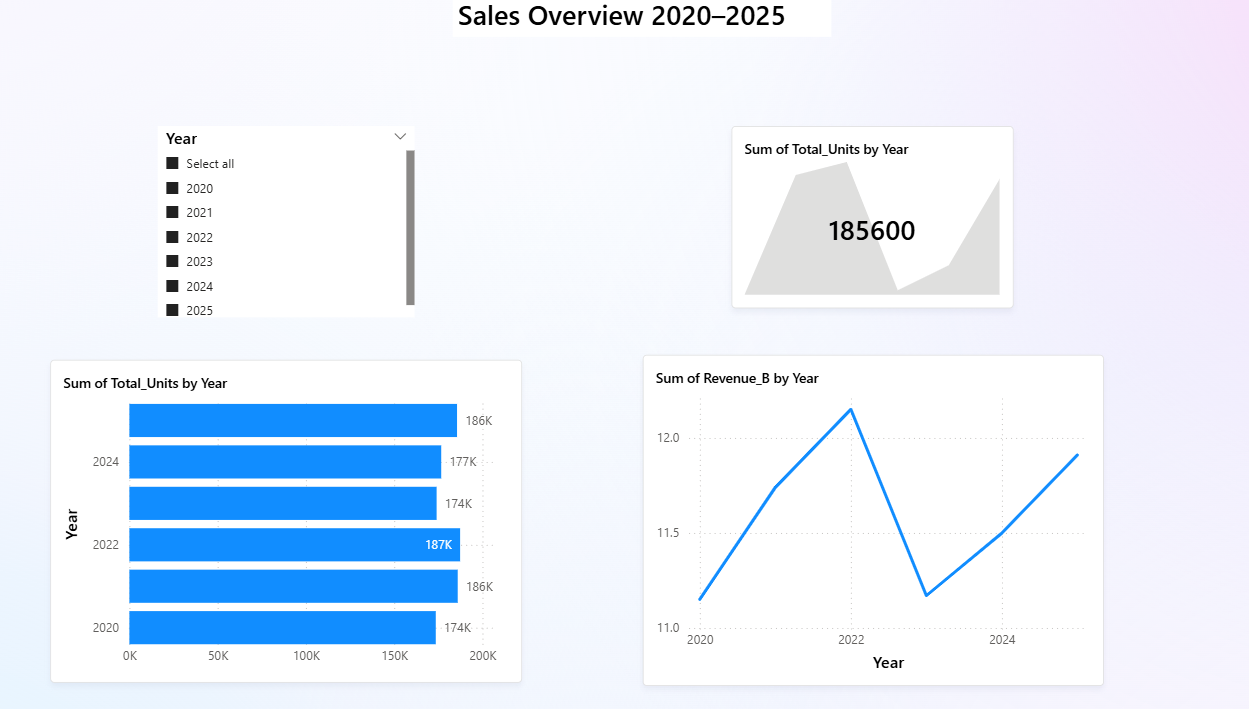

What the dashboard file says about the page in this screenshot:
{"tool":"powerbi","page":{"name":"Page 1","canvas":[1280,720],"ordinal":0},"visuals":[{"type":"slicer","fields":{"Values":["PBI_01_Annual_Summary.Year"]},"box":[190,127.1,251.4,187.1],"z":0},{"type":"barChart","fields":{"Category":["PBI_01_Annual_Summary.Year"],"Y":["Sum(PBI_01_Annual_Summary.Total_Units)"]},"box":[84.3,355.7,461.4,315.7],"z":1000},{"type":"lineChart","fields":{"Category":["PBI_01_Annual_Summary.Year"],"Y":["Sum(PBI_01_Annual_Summary.Revenue_B)"]},"box":[664.3,351.4,451.4,324.3],"z":2000},{"type":"kpi","fields":{"Indicator":["Sum(PBI_01_Annual_Summary.Total_Units)"],"TrendLine":["PBI_01_Annual_Summary.Year"]},"box":[751.4,127.1,275.7,178.6],"z":3000},{"type":"actionButton","box":[0,0,100,40],"z":4000},{"type":"textbox","title":"Sales Overview 2020–2025","box":[478.6,0,370,40],"z":5000}]}

Visuals, with their boxes in screenshot pixels (x1, y1, x2, y2), scaled from the page's 1280x720 canvas onto the 1249x709 screenshot:
slicer - PBI_01_Annual_Summary.Year: x1=185 y1=125 x2=431 y2=309
barChart - PBI_01_Annual_Summary.Year x Sum(PBI_01_Annual_Summary.Total_Units): x1=82 y1=350 x2=532 y2=661
lineChart - PBI_01_Annual_Summary.Year x Sum(PBI_01_Annual_Summary.Revenue_B): x1=648 y1=346 x2=1089 y2=665
kpi - Sum(PBI_01_Annual_Summary.Total_Units) x PBI_01_Annual_Summary.Year: x1=733 y1=125 x2=1002 y2=301
actionButton: x1=0 y1=0 x2=98 y2=39
"Sales Overview 2020–2025" textbox: x1=467 y1=0 x2=828 y2=39
